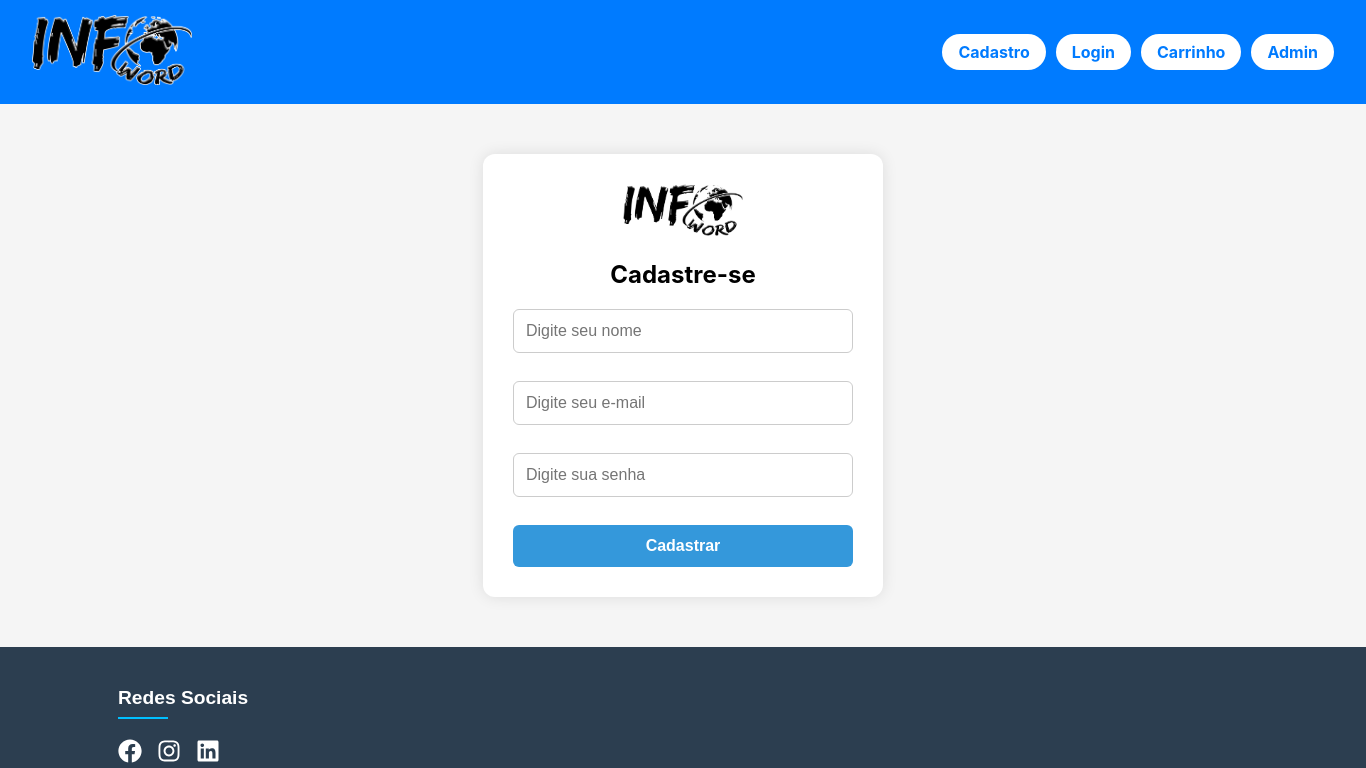
RegisterPage › exibe mensagens de erro quando os campos estão vazios
This screenshot has width=1366, height=768.
Click the button "Cadastrar" at (683, 546), box [513,525,853,567]
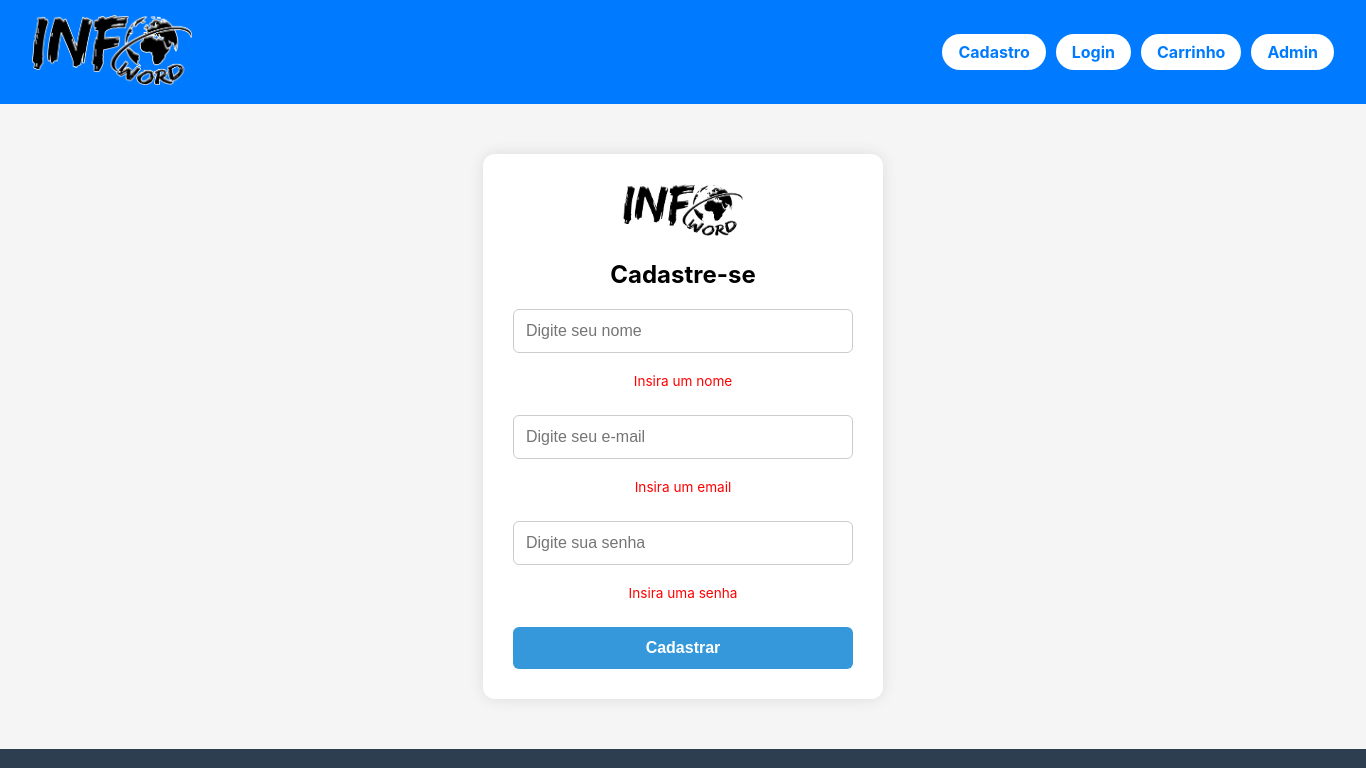
Check: the text "Insira um nome" is shown, box [634,373,732,389]
Check: the text "Insira um email" is shown, box [635,479,731,495]
Check: the text "Insira uma senha" is shown, box [628,585,737,601]
